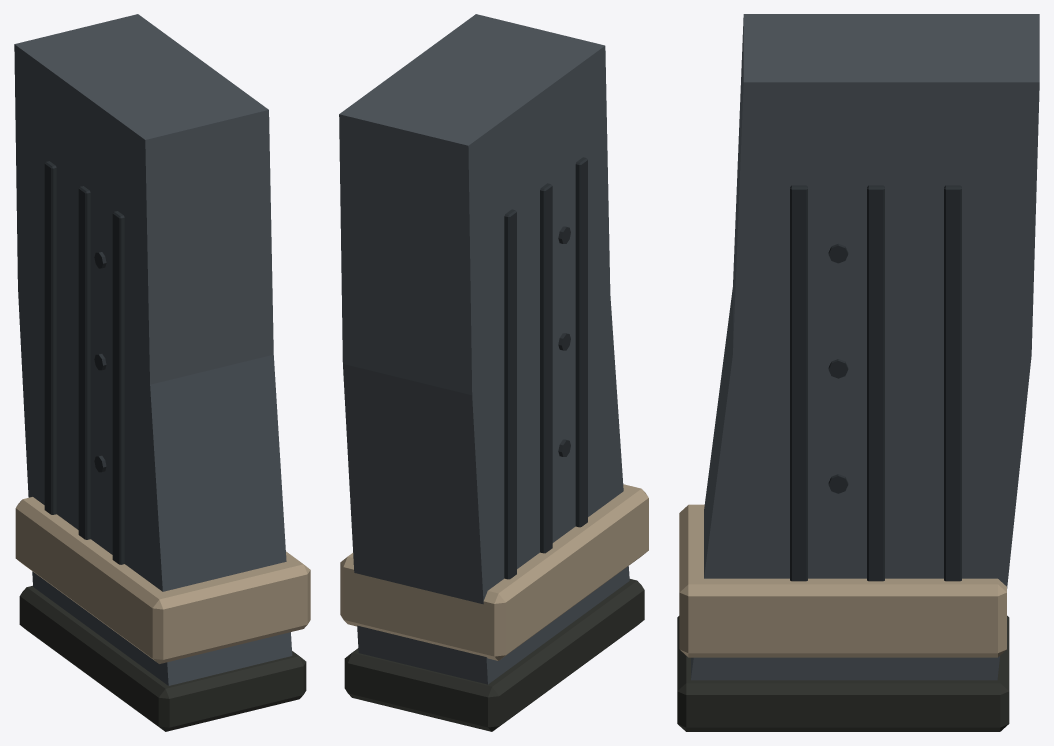
File: att_mag_osprey338_extended.glb
3 renders of one model, left to right at view 1: azimuth 30°, elevation 25°; view 2: azimuth 150°, elevation 25°; view 3: azimuth 270°, elevation 25°, orthographic. The views are drawn at different scales.
Parts seen in each view (by area): view 1: Geometry_att_mag_osprey338_extended; view 2: Geometry_att_mag_osprey338_extended; view 3: Geometry_att_mag_osprey338_extended.
Part boxes in pixels (<box>): Geometry_att_mag_osprey338_extended: <box>14,14,310,731</box>; Geometry_att_mag_osprey338_extended: <box>339,14,648,731</box>; Geometry_att_mag_osprey338_extended: <box>677,14,1039,731</box>.
Size of the model in its own units: 0.046 by 0.1591 by 0.0808.
